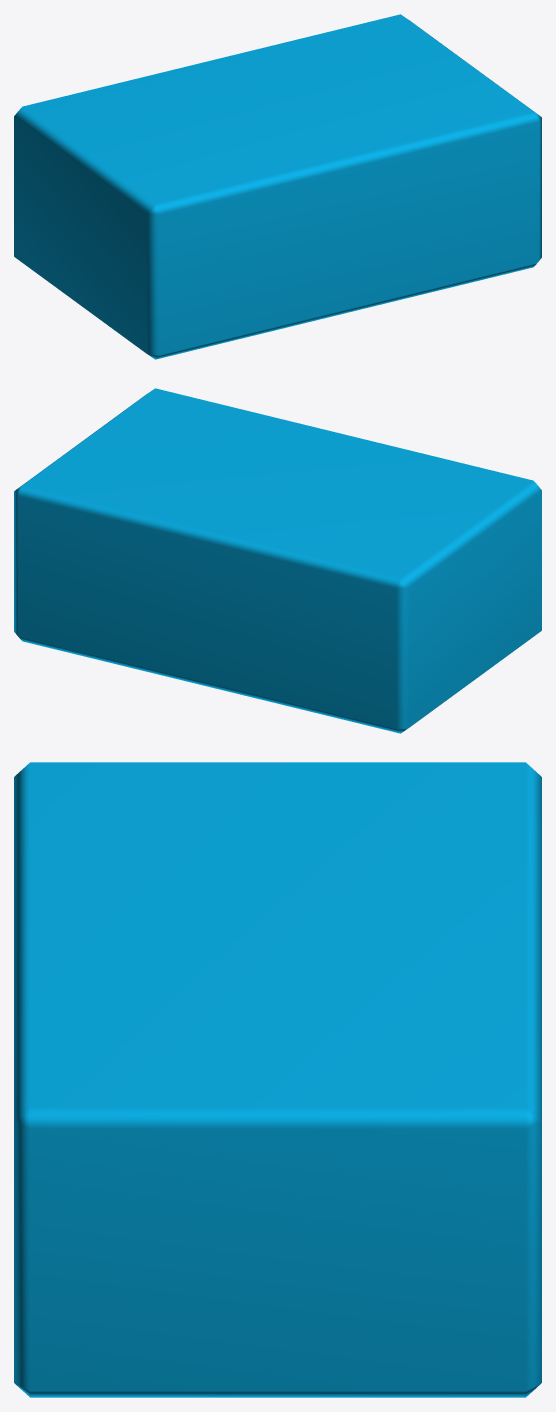
Rendered from Soap_02_Lod0.fbx.
The picture shows the model from 3 angles, top to bottom: view 1: azimuth 30°, elevation 25°; view 2: azimuth 150°, elevation 25°; view 3: azimuth 270°, elevation 25°; orthographic projection. The views are drawn at different scales.
Parts seen in each view (by area): view 1: Soap_02_Lod0; view 2: Soap_02_Lod0; view 3: Soap_02_Lod0.
Boxes of the visible parts, x1,y1,x2,y2 form: Soap_02_Lod0: [14, 14, 541, 359]; Soap_02_Lod0: [14, 388, 541, 733]; Soap_02_Lod0: [14, 762, 541, 1397].
Bounding box in the file's own units: 13.73 × 5.17 × 8.51.
